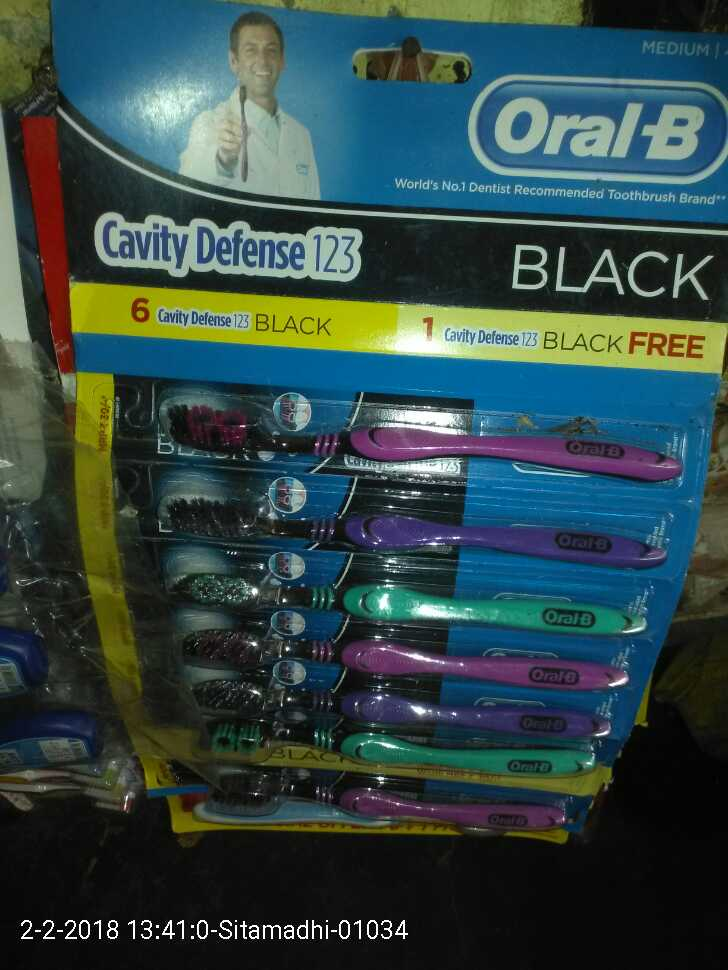oralb: (145, 386, 686, 500), (145, 486, 676, 573), (174, 552, 656, 647)
